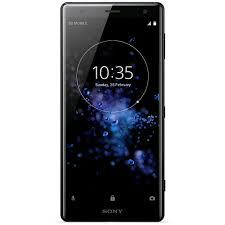sony: (56, 1, 167, 225)
